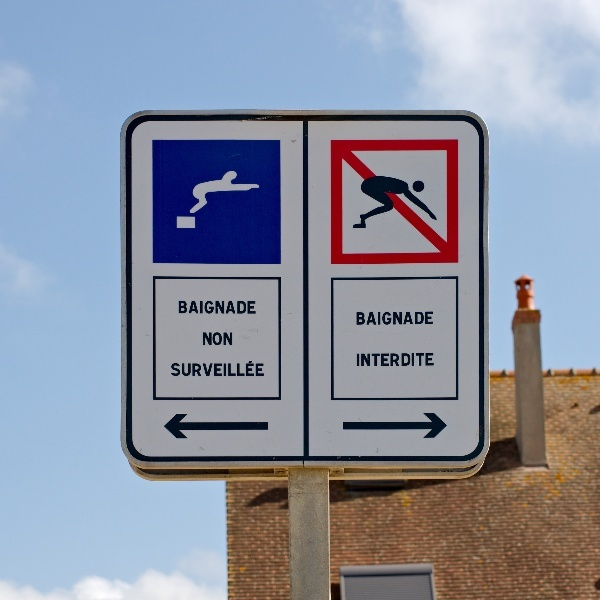text: (177, 360, 192, 378), (193, 360, 208, 378), (209, 360, 224, 378), (225, 360, 240, 378), (241, 360, 256, 378), (193, 299, 208, 315), (209, 299, 224, 315), (225, 299, 240, 315), (241, 299, 256, 315), (369, 352, 384, 368), (385, 352, 400, 368), (401, 352, 416, 368), (417, 352, 432, 368), (369, 311, 384, 326), (385, 311, 400, 326), (401, 311, 416, 326), (417, 311, 432, 326), (178, 299, 192, 315), (209, 332, 224, 346), (355, 311, 368, 326), (356, 352, 368, 368), (257, 360, 266, 378), (225, 332, 234, 346), (170, 360, 176, 378), (202, 332, 208, 346), (433, 352, 435, 368), (257, 299, 258, 315), (433, 311, 434, 326)
